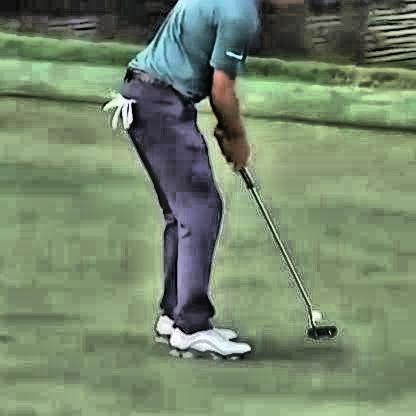golfball: (308, 306, 319, 319)
